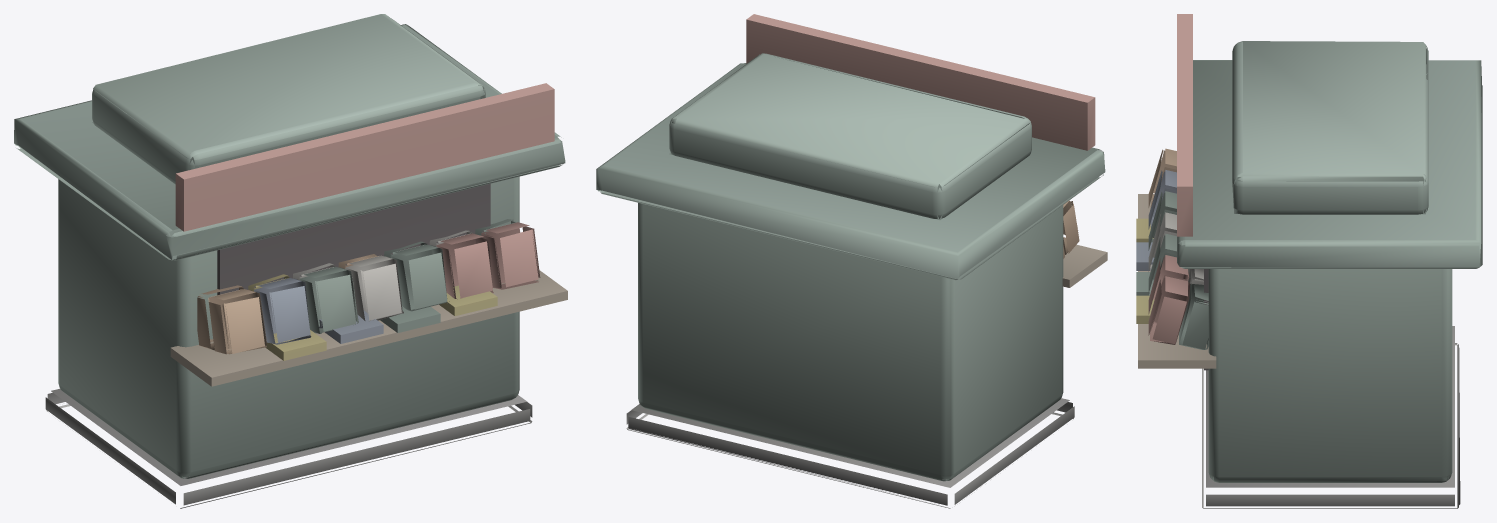
File: newsstand.lod.glb
The picture shows the model from 3 angles, left to right: view 1: azimuth 30°, elevation 25°; view 2: azimuth 150°, elevation 25°; view 3: azimuth 270°, elevation 25°; orthographic projection. The views are drawn at different scales.
Size of the model in its own units: 2.79 by 2.29 by 2.2.
